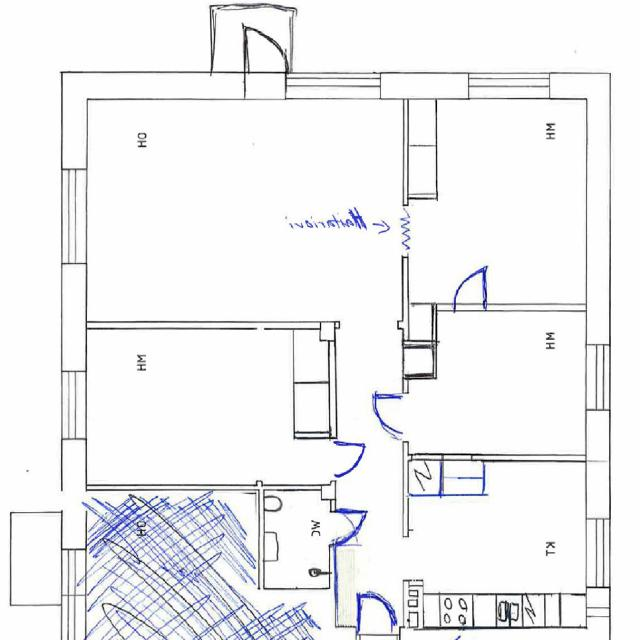door: (245, 22, 288, 99), (358, 581, 397, 640), (368, 396, 409, 438), (454, 266, 486, 311), (331, 510, 366, 546), (330, 442, 366, 476)
